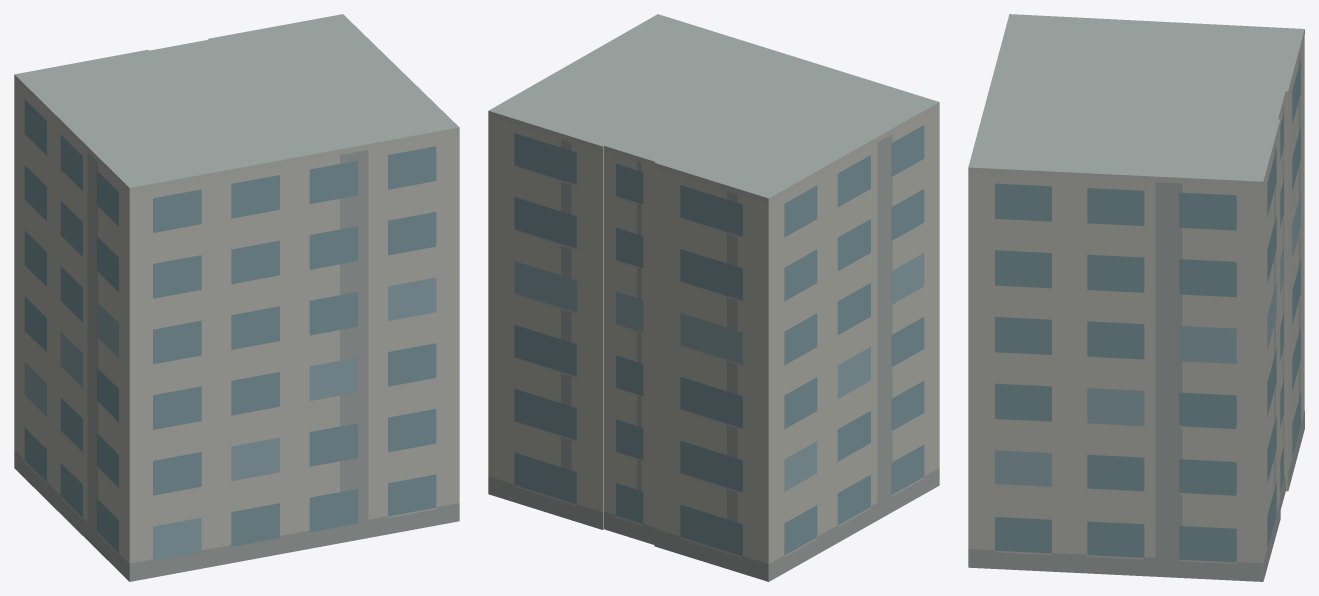
File: survey-upis-32679574.glb
3 renders of one model, left to right at view 1: azimuth 30°, elevation 25°; view 2: azimuth 150°, elevation 25°; view 3: azimuth 270°, elevation 25°, orthographic. The views are drawn at different scales.
Visible parts, largest first — view 1: survey-upis-32679574.tmp; view 2: survey-upis-32679574.tmp; view 3: survey-upis-32679574.tmp.
Part boxes in pixels (x1,y1,x2,y2): survey-upis-32679574.tmp: (14, 14, 459, 581); survey-upis-32679574.tmp: (488, 14, 939, 581); survey-upis-32679574.tmp: (968, 14, 1304, 581).
Bounding box in the file's own units: 15.2 × 16.9 × 12.89.
